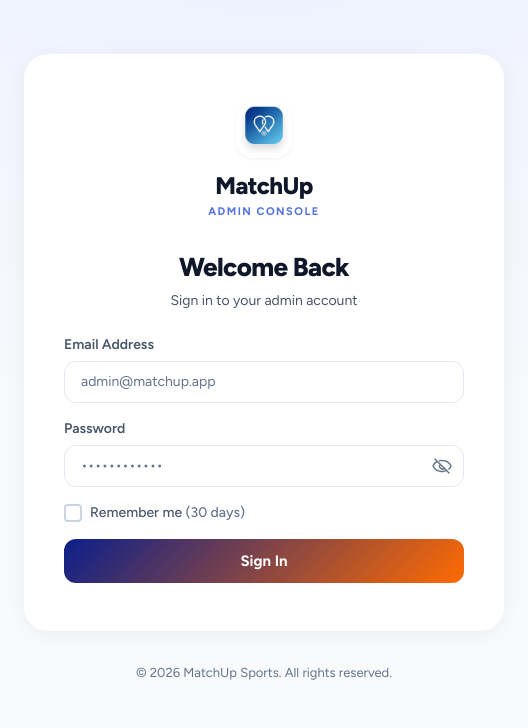
LoginPage › shows a validation error when submitting with empty fields
Click the button "Sign In" at [264, 561], box [64,539,464,583]
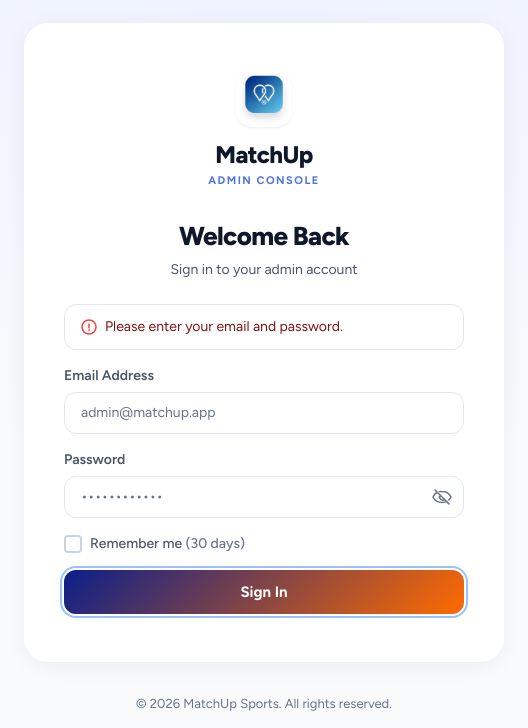
Now the text "Please enter your email and password." is shown, box [105,317,343,337]
